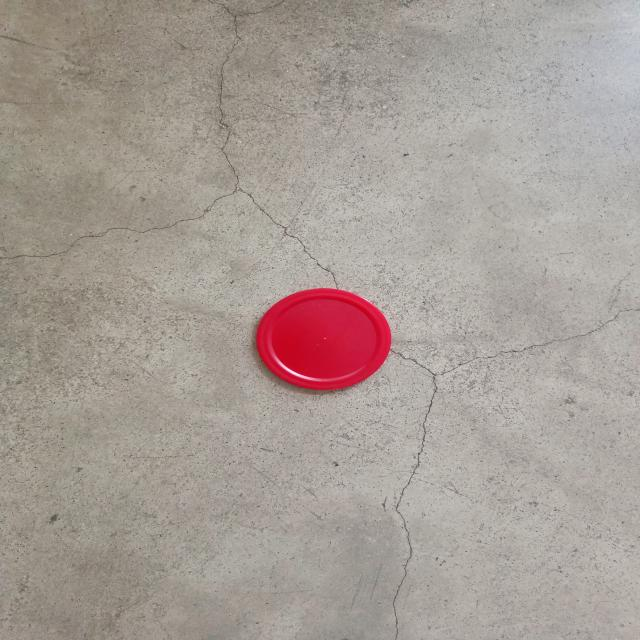chip: (247, 285, 396, 393)
